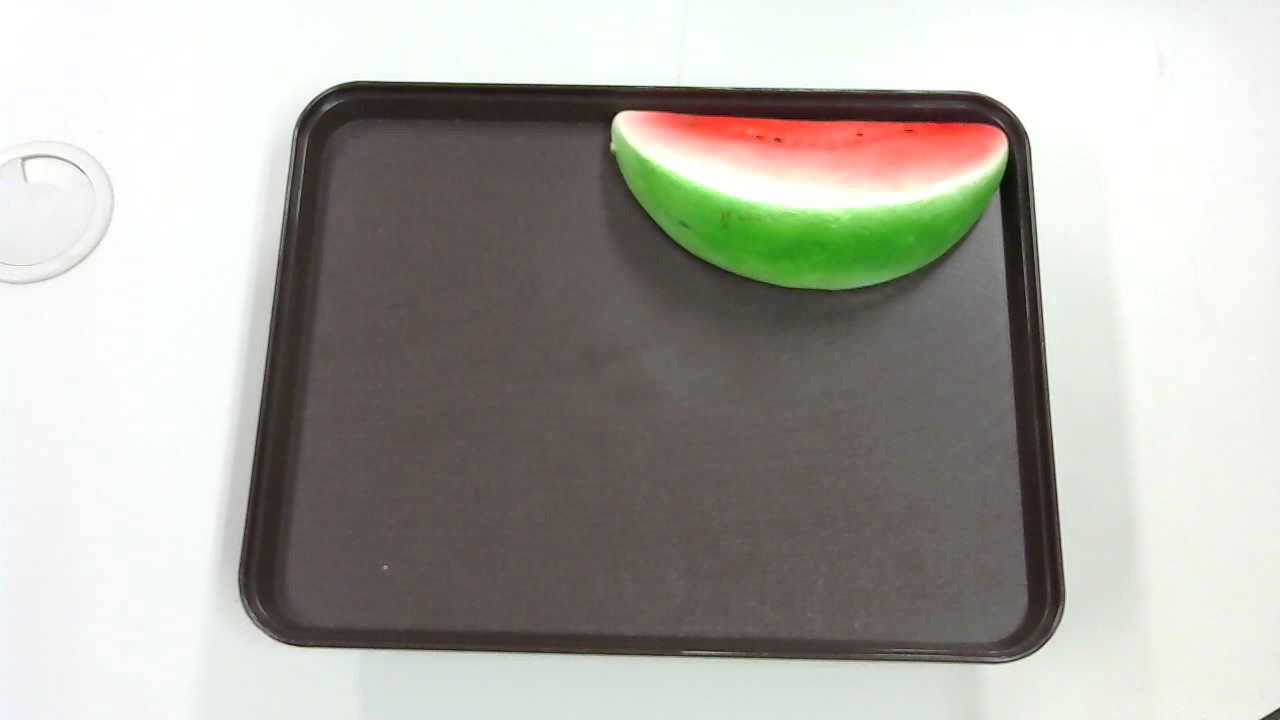water melon: (600, 107, 1015, 285)
